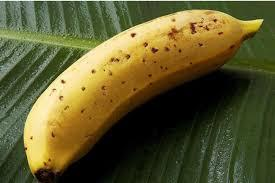banana: (12, 10, 248, 171)
